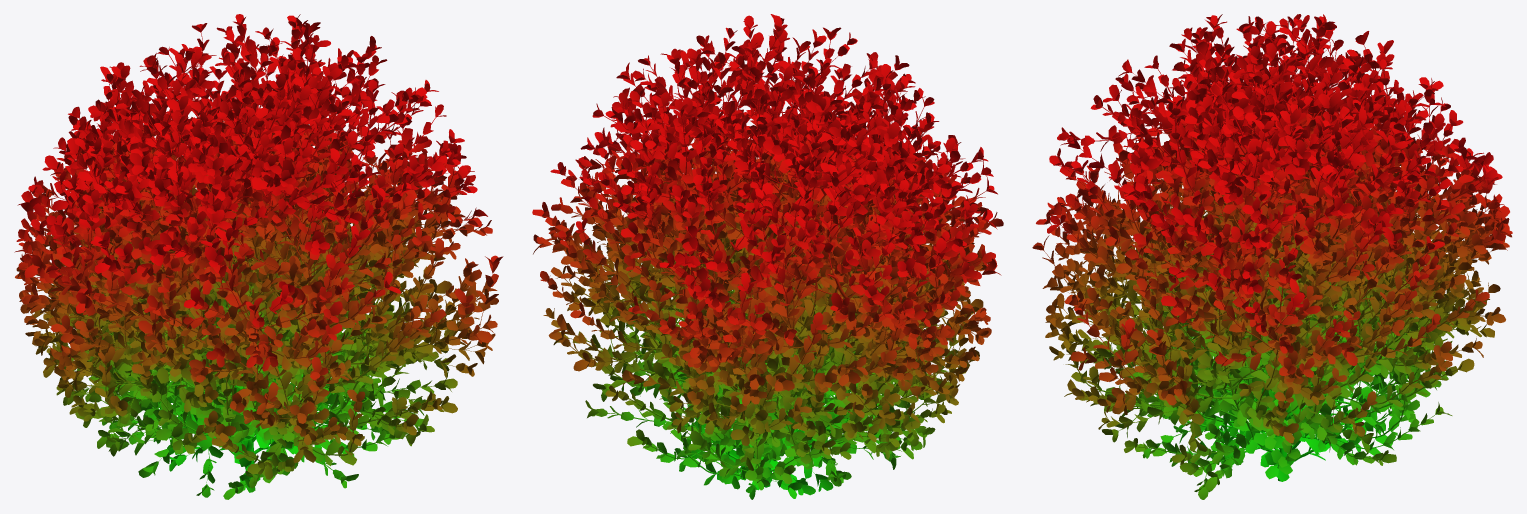
The model's file is Var4_LOD1.fbx.
The picture shows the model from 3 angles, left to right: view 1: azimuth 30°, elevation 25°; view 2: azimuth 150°, elevation 25°; view 3: azimuth 270°, elevation 25°; orthographic projection.
Visible parts, largest first — view 1: _1zsa_Var4_LOD1; view 2: _1zsa_Var4_LOD1; view 3: _1zsa_Var4_LOD1.
Boxes of the visible parts, left/top/right/bottom form: _1zsa_Var4_LOD1: left=14, top=14, right=503, bottom=499; _1zsa_Var4_LOD1: left=532, top=14, right=1003, bottom=499; _1zsa_Var4_LOD1: left=1032, top=14, right=1512, bottom=499.
Size of the model in its own units: 78.54 by 79.11 by 76.41.
